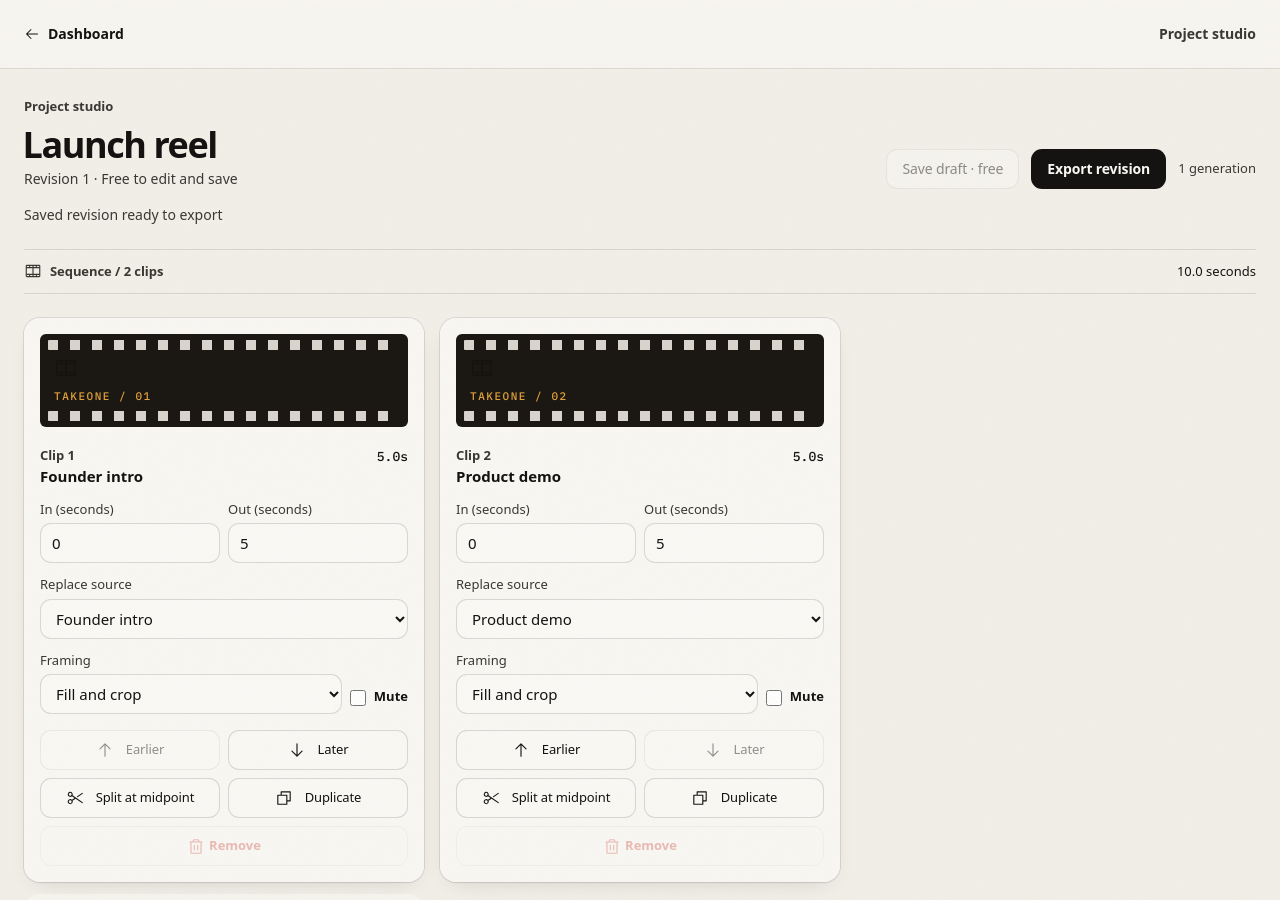
project route wins over the job route and local operations stay free until explicit save
Expected: the heading "Launch reel" is shown, x1=23 y1=124 x2=238 y2=164
Click the button with aria-label "Move clip 2 Product demo earlier". click: click(546, 750)
box: x1=456 y1=730 x2=636 y2=770
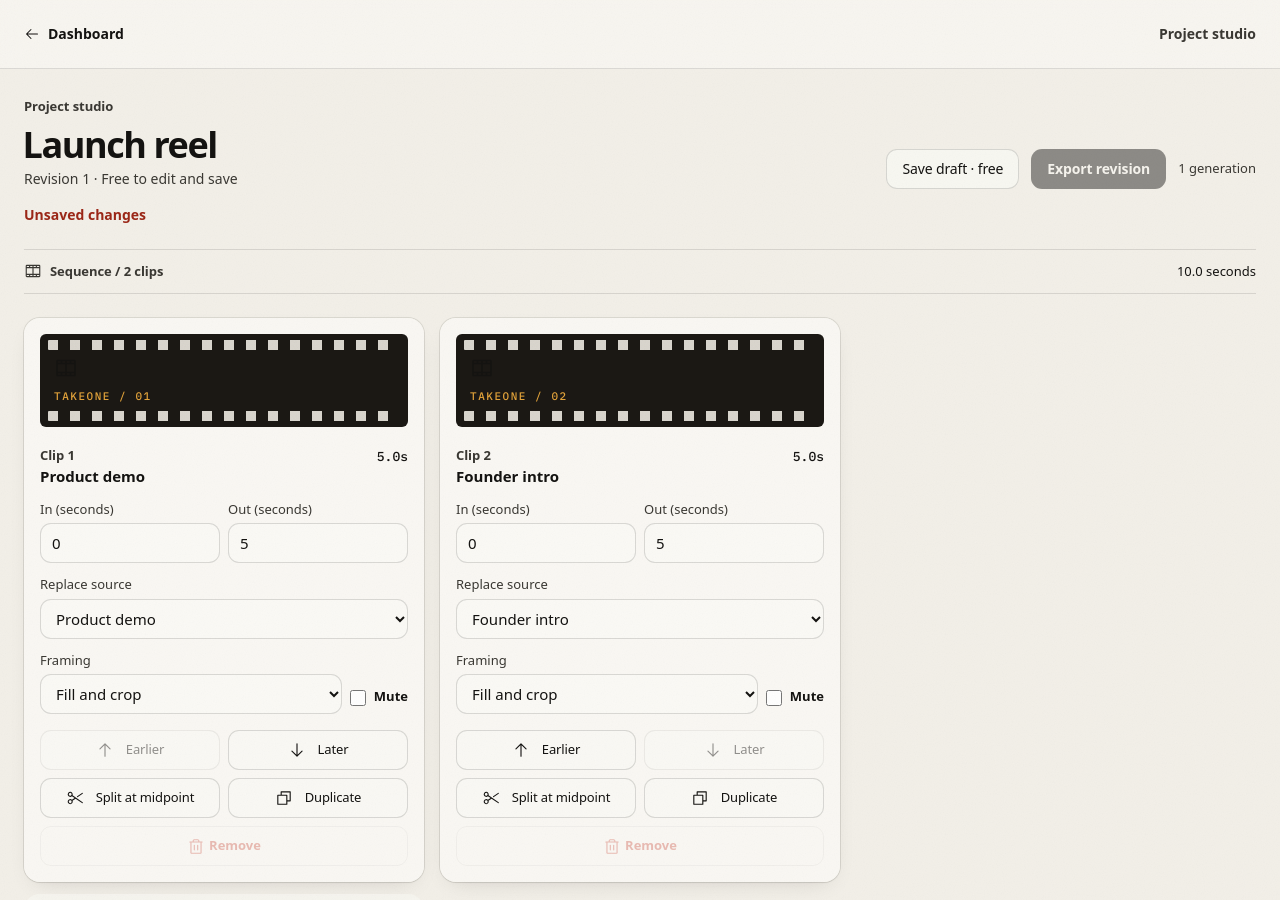
Expected: the element with test id "clip-card" shows "Product demo", x1=40 y1=466 x2=145 y2=486
Now the text "Unsaved changes" is shown, box x1=24 y1=204 x2=146 y2=224
Now the button "Export revision" is disabled, box x1=1031 y1=148 x2=1166 y2=188
